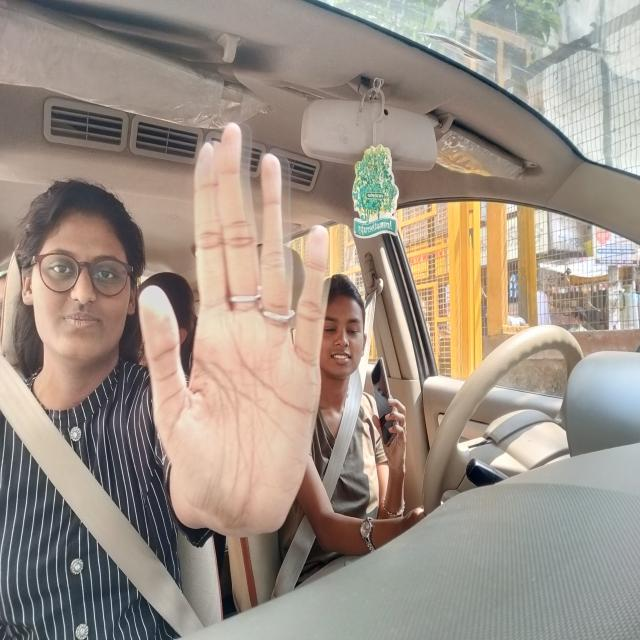mobile: (369, 355, 402, 454)
person: (17, 175, 141, 366), (317, 274, 372, 392)
